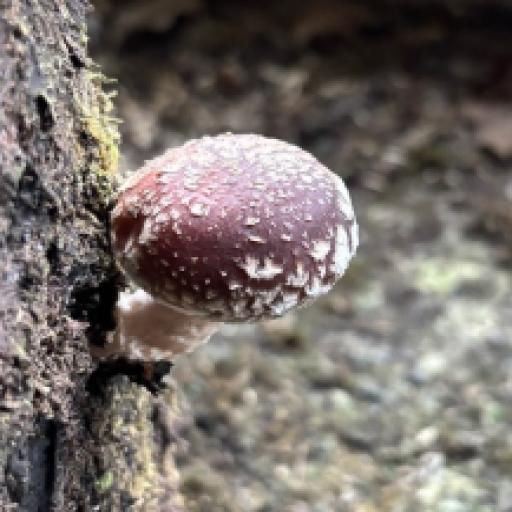Shiitake Mushroom: (53, 90, 377, 382)
